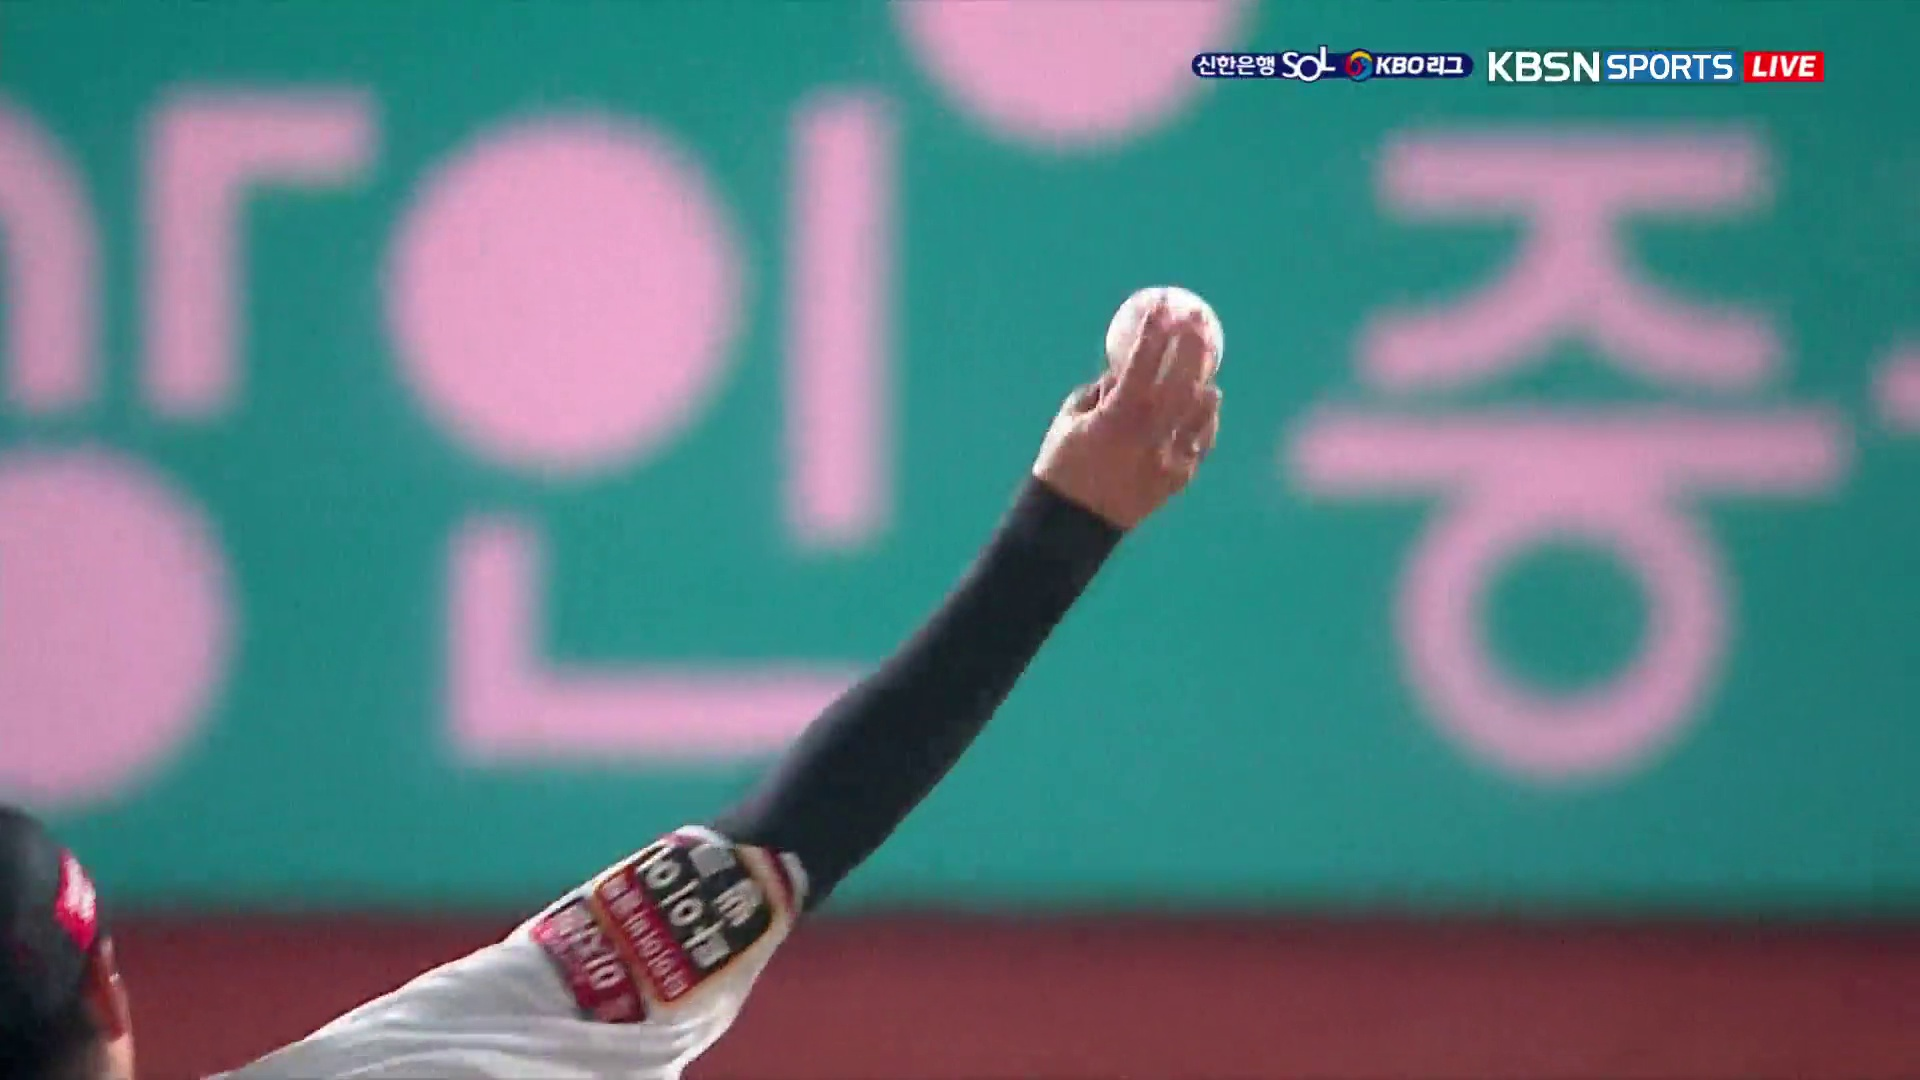zoomin_hand: (727, 266, 1242, 918)
